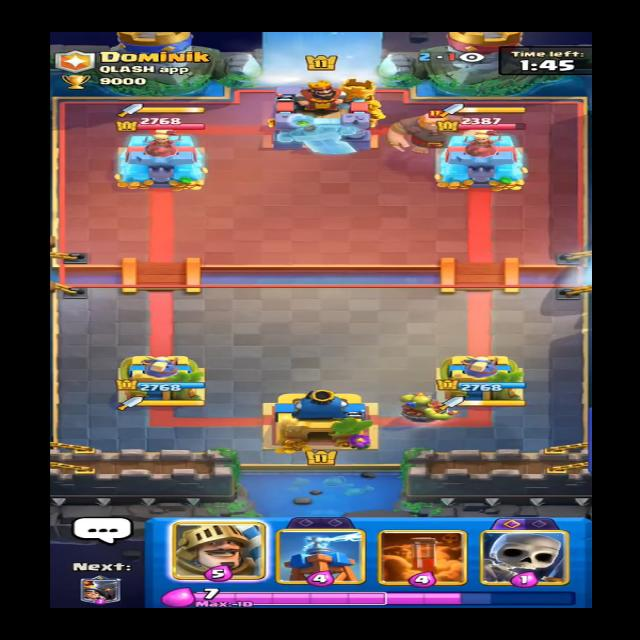giant: (380, 103, 476, 153)
